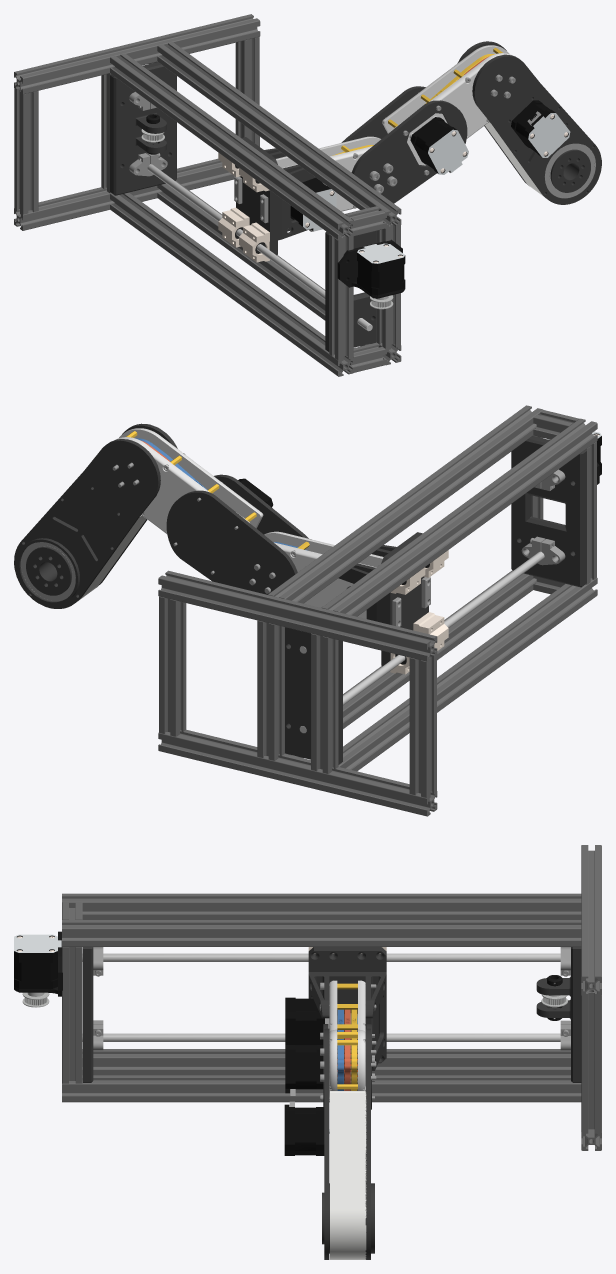
The model's file is scara.glb.
3 renders of one model, top to bottom at view 1: azimuth 30°, elevation 25°; view 2: azimuth 150°, elevation 25°; view 3: azimuth 270°, elevation 25°, orthographic. The views are drawn at different scales.
Parts seen in each view (by area): view 1: Konfiguracja 1 v3 (3):1, NEMA17 Model v2:1 (×4), Konfiguracja 1 v3 (1):1, Konfiguracja 1 v3:1, =>[0:1:1:79], Konfiguracja 1 v3 (4):1, Shaft_Plate v8:1, Axis1_Plate_Top:1, Konfiguracja 1 v3:4, Konfiguracja 1 v3 (2):1, 2020 alu section v1 v1 (1):4, housing-top:1 (×2) (+18 smaller); view 2: Plate_Bottom v3:1, Konfiguracja 1 v3 (3):1, Konfiguracja 1 v3 (1):1, Axis1_Plate_Btm:1, Konfiguracja 1 v3 (4):1, Konfiguracja 1 v3:1, Konfiguracja 1 v3:4, Shaft_Plate_Top v7:1, Konfiguracja 1 v3 (2):1, Shaft_Plate v8:1, 2020 alu section v1 v1 (1):4, 2020 alu section v1 v1 (1):6 (+15 smaller); view 3: Konfiguracja 1 v3 (1):1, Konfiguracja 1 v3 (3):1, Konfiguracja 1 v3 (2):1, Konfiguracja 1 v3:1, NEMA17 Model v2:1 (×4), =>[0:1:1:79], Długość v3:1, Długość v3:2, Gearbox Mount:1, Konfiguracja 1 v3 (4):1, 2020 alu section v1 v1 (1):3, 2020 alu section v1 v1 (1):2 (+5 smaller).
Boxes of the visible parts, left/top/right/bottom form: Konfiguracja 1 v3 (3):1: left=110, top=53, right=353, bottom=240; NEMA17 Model v2:1 (×4): left=290, top=100, right=570, bottom=295; Konfiguracja 1 v3 (1):1: left=157, top=42, right=401, bottom=228; Konfiguracja 1 v3:1: left=110, top=192, right=353, bottom=376; =>[0:1:1:79]: left=472, top=54, right=601, bottom=204; Konfiguracja 1 v3 (4):1: left=14, top=14, right=260, bottom=94; Shaft_Plate v8:1: left=110, top=62, right=176, bottom=195; Axis1_Plate_Top:1: left=351, top=100, right=467, bottom=203; Konfiguracja 1 v3:4: left=14, top=158, right=234, bottom=230; Konfiguracja 1 v3 (2):1: left=157, top=181, right=401, bottom=365; 2020 alu section v1 v1 (1):4: left=14, top=88, right=38, bottom=214; housing-top:1 (×2): left=282, top=53, right=511, bottom=211; Plate_Bottom v3:1: left=14, top=439, right=160, bottom=608; Konfiguracja 1 v3 (3):1: left=321, top=418, right=597, bottom=616; Konfiguracja 1 v3 (1):1: left=268, top=405, right=543, bottom=603; Axis1_Plate_Btm:1: left=166, top=490, right=297, bottom=594; Konfiguracja 1 v3 (4):1: left=158, top=570, right=437, bottom=661; Konfiguracja 1 v3:1: left=338, top=578, right=597, bottom=771; Konfiguracja 1 v3:4: left=158, top=730, right=437, bottom=816; Shaft_Plate_Top v7:1: left=511, top=436, right=586, bottom=587; Konfiguracja 1 v3 (2):1: left=285, top=570, right=536, bottom=758; Shaft_Plate v8:1: left=285, top=627, right=342, bottom=764; 2020 alu section v1 v1 (1):4: left=409, top=655, right=436, bottom=797; 2020 alu section v1 v1 (1):6: left=257, top=620, right=284, bottom=760; Konfiguracja 1 v3 (1):1: left=62, top=920, right=581, bottom=946; Konfiguracja 1 v3 (3):1: left=62, top=893, right=581, bottom=919; Konfiguracja 1 v3 (2):1: left=62, top=1075, right=581, bottom=1102; Konfiguracja 1 v3:1: left=82, top=1049, right=570, bottom=1075; NEMA17 Model v2:1 (×4): left=14, top=934, right=329, bottom=1155; =>[0:1:1:79]: left=324, top=1028, right=366, bottom=1259; Długość v3:1: left=82, top=953, right=560, bottom=961; Długość v3:2: left=82, top=1033, right=560, bottom=1041; Gearbox Mount:1: left=308, top=972, right=386, bottom=1070; Konfiguracja 1 v3 (4):1: left=581, top=845, right=601, bottom=995; 2020 alu section v1 v1 (1):3: left=581, top=989, right=601, bottom=1131; 2020 alu section v1 v1 (1):2: left=62, top=947, right=82, bottom=1083.
Bounding box in the file's own units: 0.5898 × 0.2025 × 0.5662.
